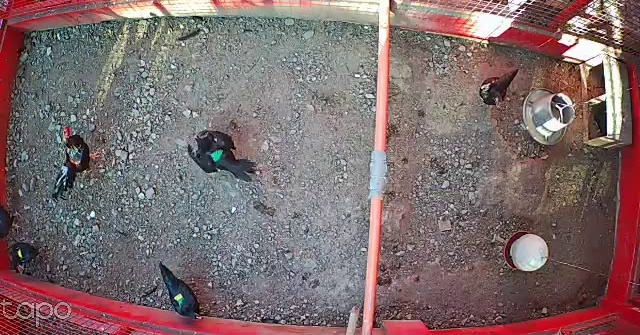Chicken: (183, 120, 260, 184), (151, 262, 210, 323), (474, 64, 524, 113), (5, 235, 45, 278)
Rooster: (52, 126, 104, 201)
Saddle_Color_Yellow: (17, 248, 23, 258)
Saddle_Color_YellowGreen: (176, 292, 184, 305)
